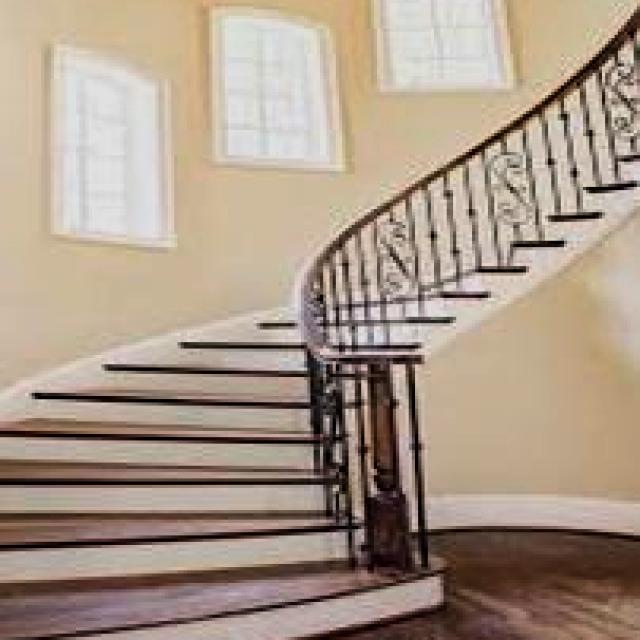upstair: (1, 387, 444, 640)
